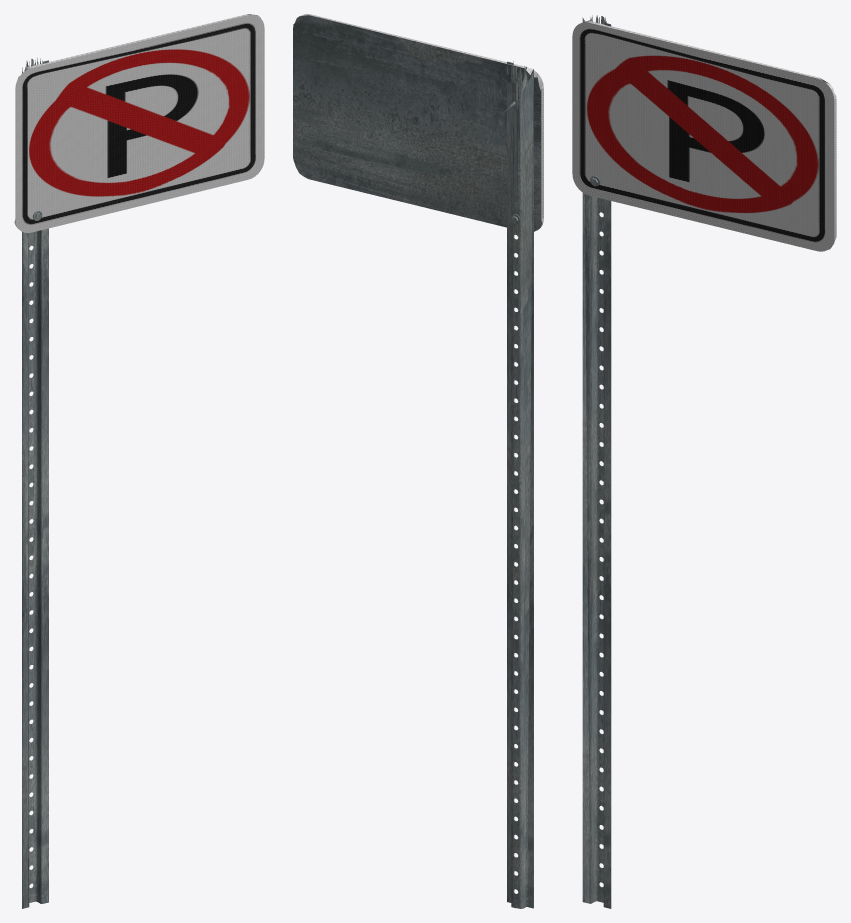
Rendered from Sign5.obj.
The picture shows the model from 3 angles, left to right: view 1: azimuth 30°, elevation 25°; view 2: azimuth 150°, elevation 25°; view 3: azimuth 330°, elevation 25°; orthographic projection. The views are drawn at different scales.
Parts seen in each view (by area): view 1: X004_042_sign_no_parking; view 2: X004_042_sign_no_parking; view 3: X004_042_sign_no_parking.
Part boxes in pixels (x1,y1,x2,y2): X004_042_sign_no_parking: (14,14,264,908); X004_042_sign_no_parking: (293,14,543,908); X004_042_sign_no_parking: (572,15,836,908).
Size of the model in its own units: 27.74 by 89.62 by 4.23.
